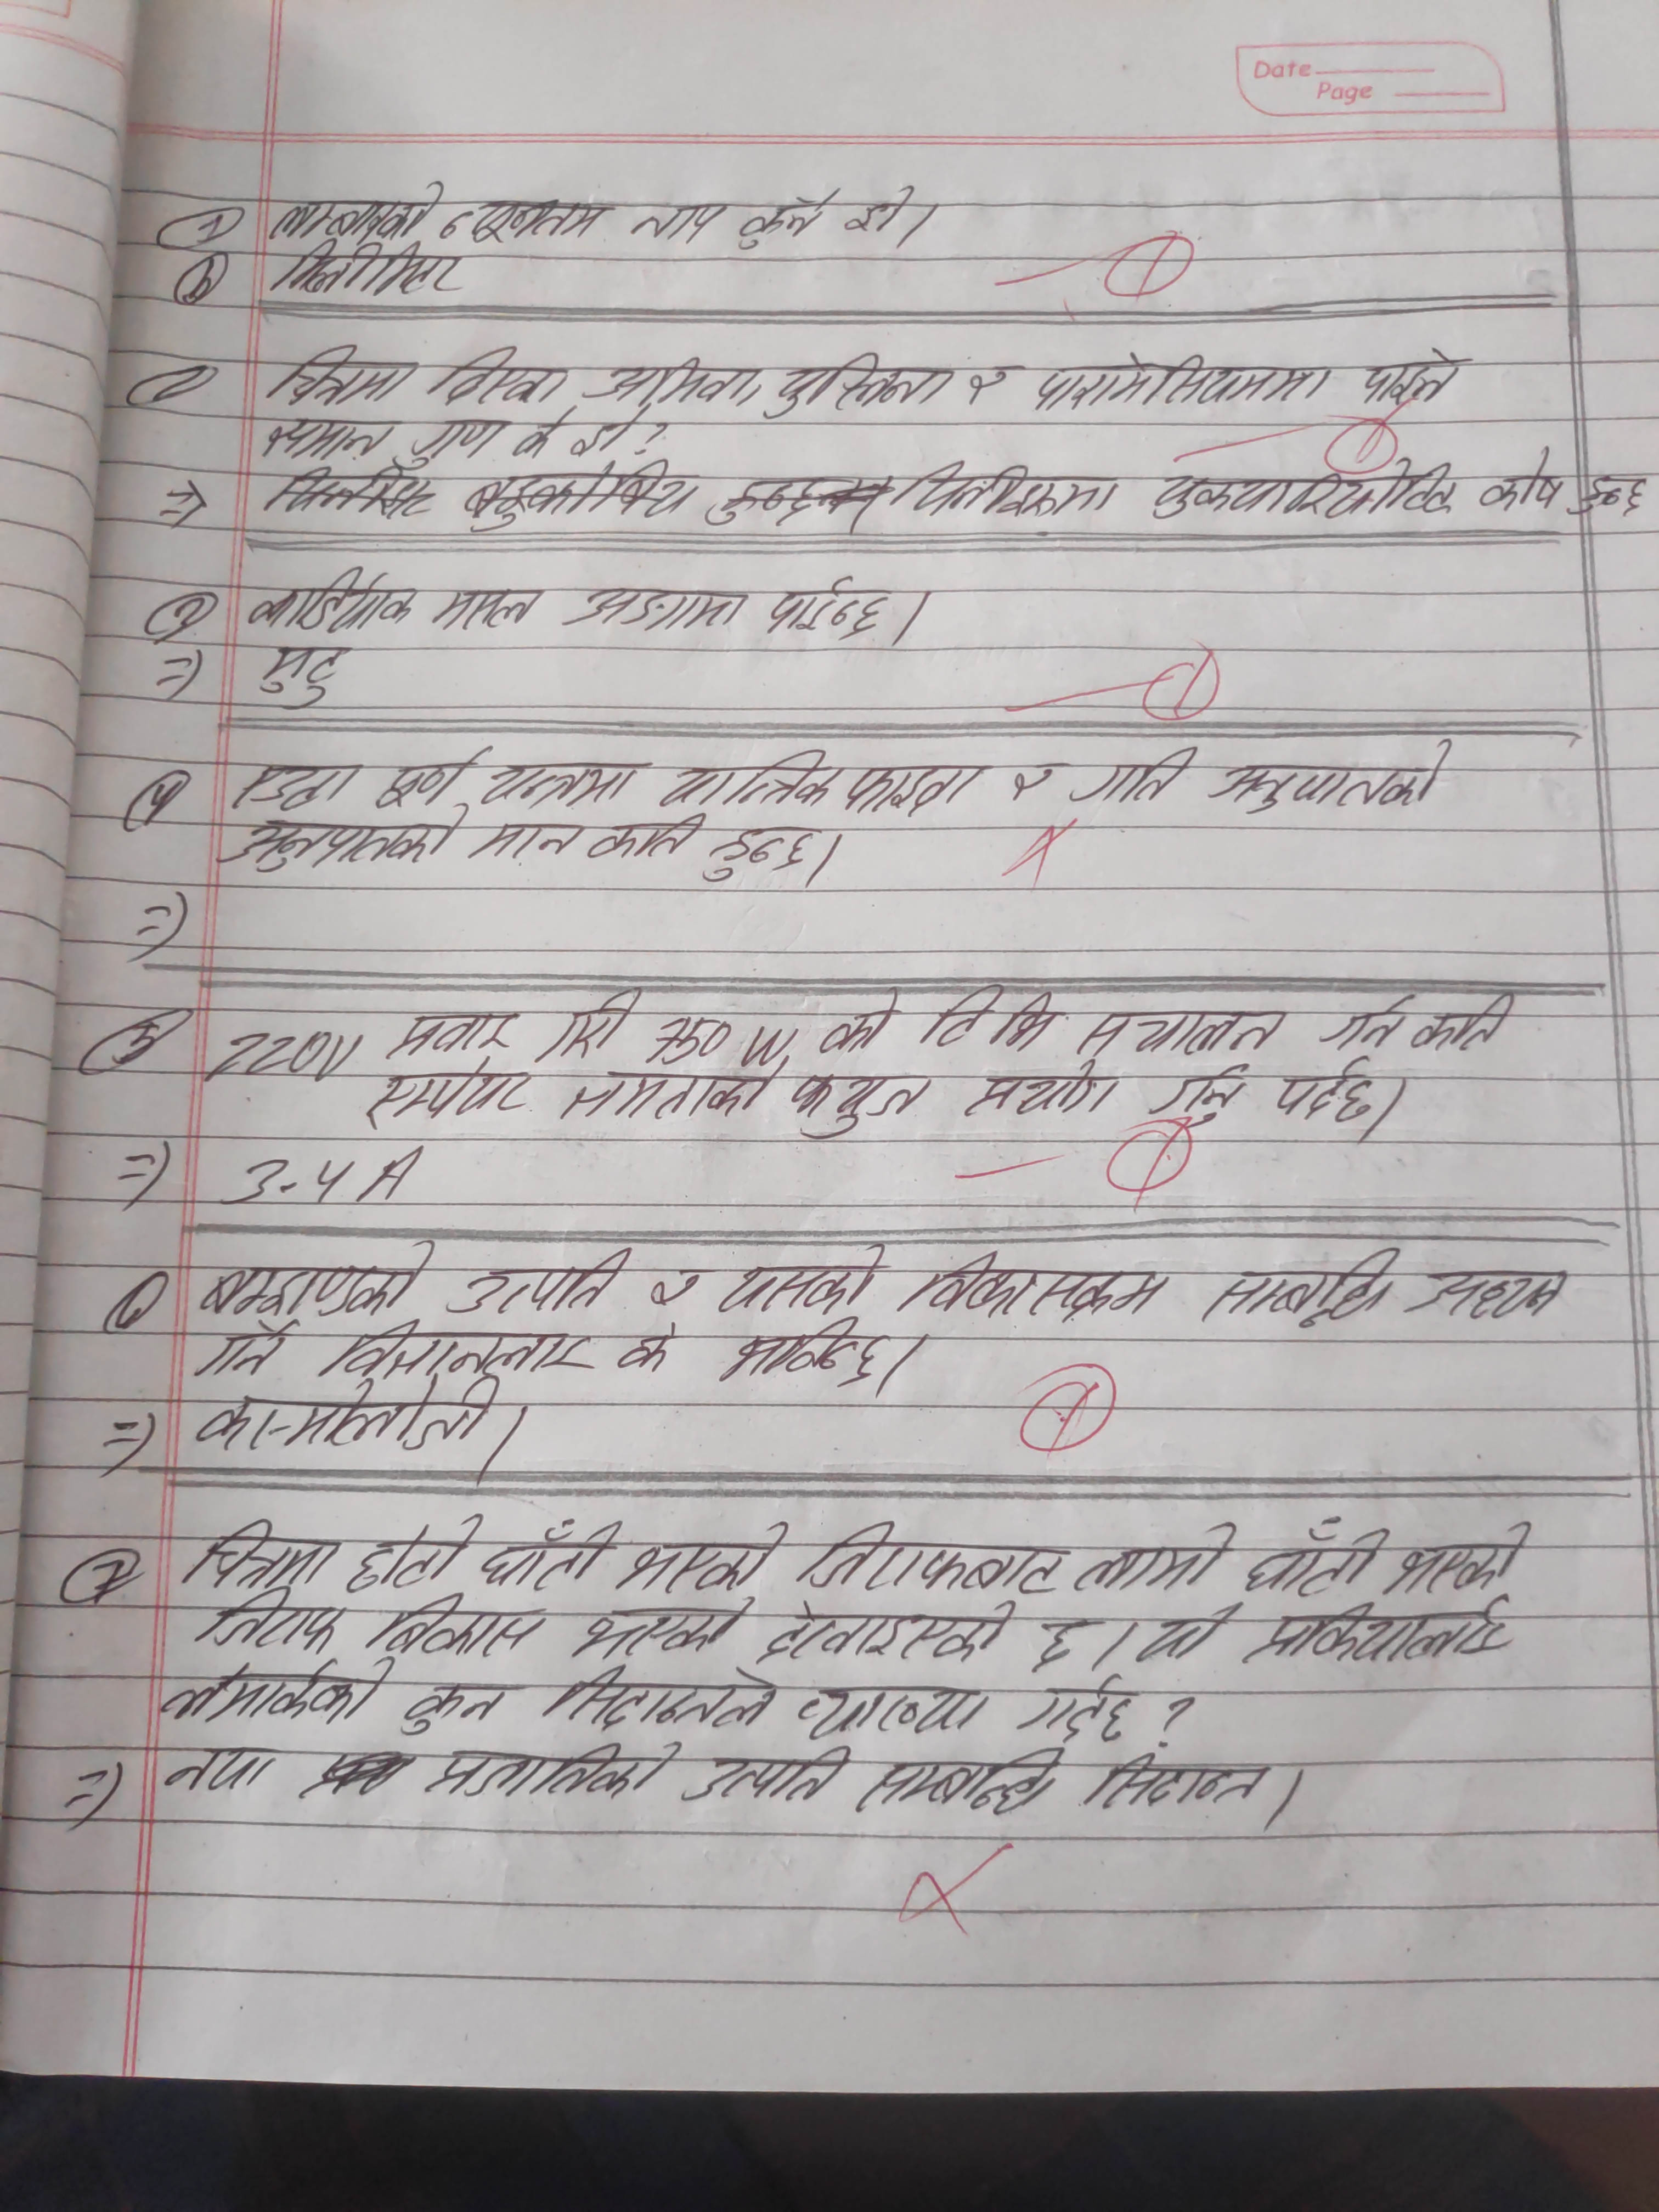text: (185, 1383, 504, 1453), (793, 1521, 1065, 1601), (894, 1245, 1166, 1320), (1143, 462, 1466, 523), (1033, 345, 1337, 409), (1208, 737, 1455, 813), (422, 1733, 683, 1804), (199, 1235, 430, 1313), (1253, 1602, 1518, 1669), (317, 1320, 603, 1379), (540, 1663, 781, 1731), (755, 1601, 1018, 1662), (882, 458, 1121, 523), (1204, 1247, 1406, 1320), (157, 1662, 392, 1724), (448, 1237, 629, 1317), (220, 813, 462, 873), (791, 1676, 990, 1745), (866, 1747, 1073, 1813), (1075, 1745, 1272, 1813), (760, 354, 958, 418), (347, 1064, 530, 1134), (240, 564, 422, 634), (626, 1519, 793, 1592), (267, 172, 450, 239), (559, 1071, 782, 1125), (254, 463, 451, 524), (267, 244, 469, 303), (716, 1238, 884, 1310), (721, 1318, 882, 1392), (361, 1590, 547, 1653), (471, 1514, 622, 1590), (657, 747, 842, 810), (183, 1519, 345, 1590), (1073, 1007, 1286, 1061), (1415, 1256, 1574, 1327), (1075, 1521, 1234, 1592), (1387, 1524, 1541, 1597), (568, 1599, 746, 1662), (918, 981, 1065, 1055), (775, 1068, 929, 1136), (195, 1592, 350, 1658), (1237, 1524, 1389, 1590), (561, 578, 746, 632), (687, 1743, 854, 1801), (579, 355, 769, 406), (1012, 1669, 1147, 1740), (345, 1517, 483, 1585), (263, 345, 416, 406), (843, 752, 995, 813), (427, 343, 568, 408), (481, 758, 648, 812), (762, 573, 892, 641), (443, 195, 612, 246), (218, 749, 357, 810), (967, 1071, 1131, 1122), (1351, 341, 1473, 406), (1272, 1055, 1382, 1127), (457, 813, 587, 873), (1075, 744, 1195, 806), (580, 808, 711, 866), (1415, 989, 1518, 1061), (1317, 988, 1419, 1059), (369, 749, 488, 808), (422, 577, 542, 634), (188, 1322, 301, 1383), (1136, 1599, 1239, 1665), (701, 820, 810, 881), (1148, 1062, 1249, 1129), (537, 993, 634, 1061), (251, 639, 345, 709), (380, 1012, 518, 1059), (396, 1684, 514, 1737), (727, 195, 840, 249), (1478, 451, 1574, 514), (157, 1749, 277, 1797), (817, 988, 903, 1055), (261, 418, 403, 458), (403, 418, 504, 467), (1025, 1615, 1093, 1677), (633, 199, 725, 244), (957, 359, 1026, 415), (842, 186, 917, 237), (575, 404, 650, 455), (613, 1320, 678, 1378), (505, 409, 572, 465), (999, 759, 1066, 810), (1579, 470, 1652, 512), (645, 1268, 702, 1313)
